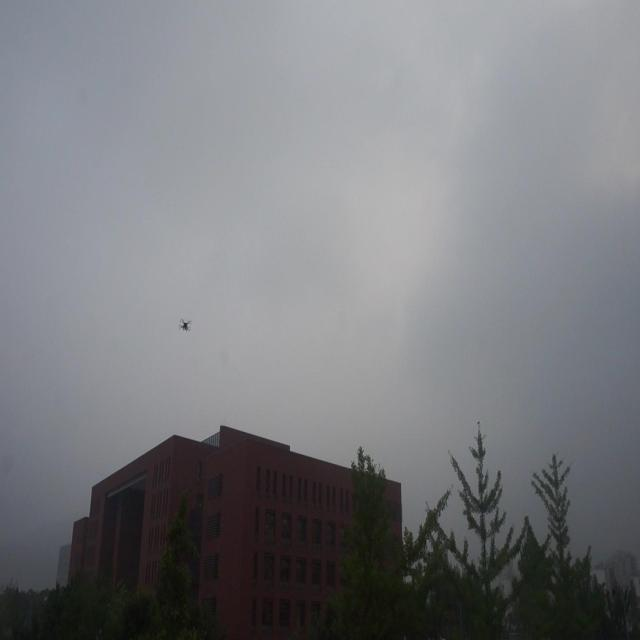drone: (177, 316, 192, 334)
